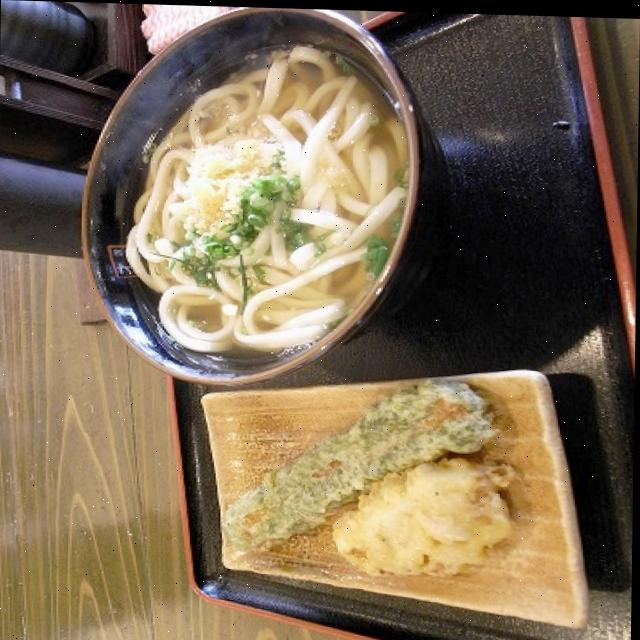面条主食: (62, 2, 424, 388)
